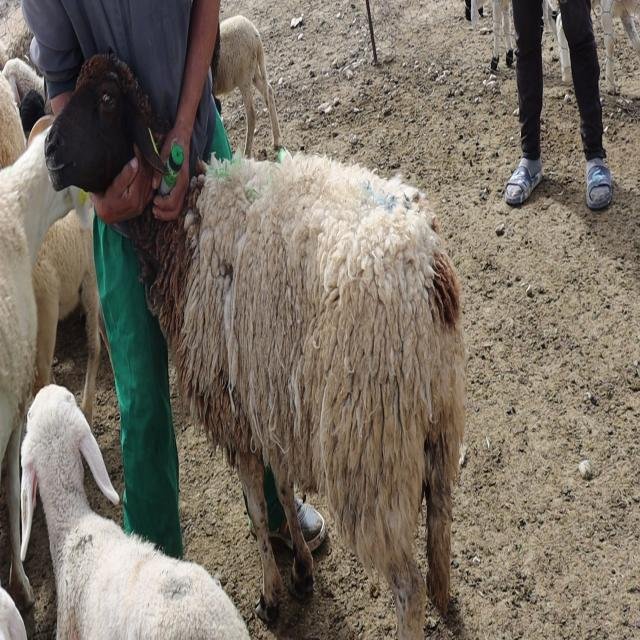Score_1: (131, 151, 466, 639)
